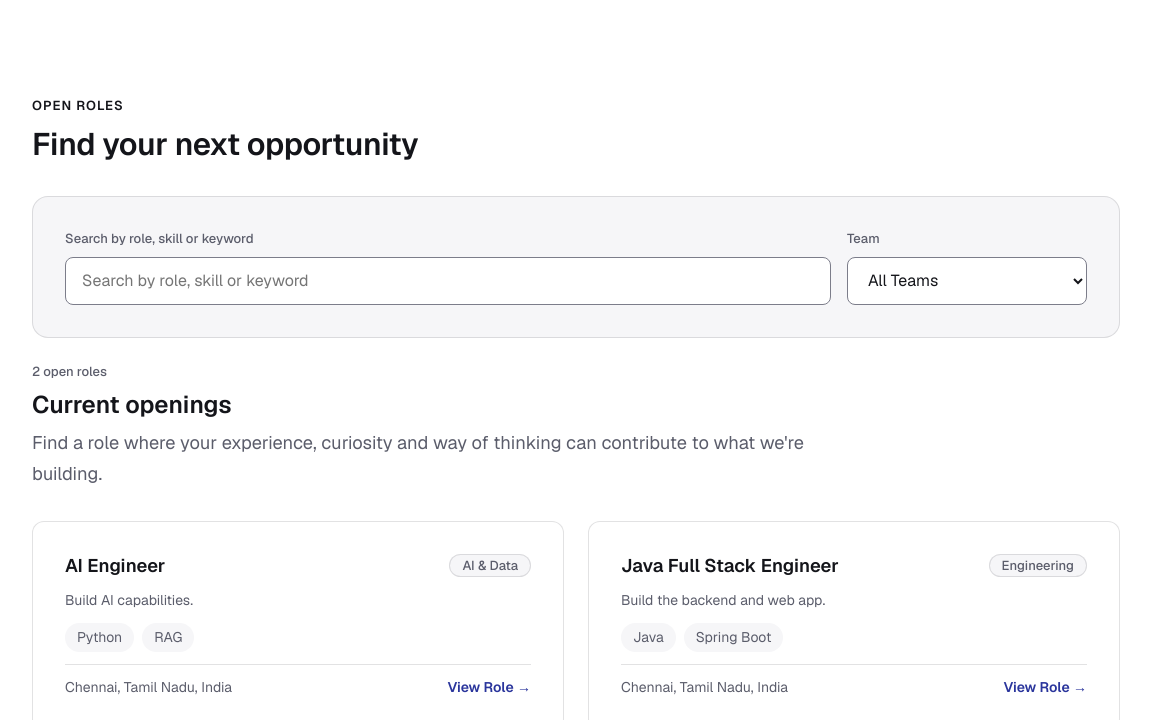
it: CurrentOpeningsSection › shows a filtered empty state with clear-filters and job-alerts pathways when a real result set exists but the filter excludes everything
Type "zzz-no-such-role" into the field labelled "Search by role, skill or keyword". click: (448, 280)
box: top-left (65, 256), bottom-right (831, 304)
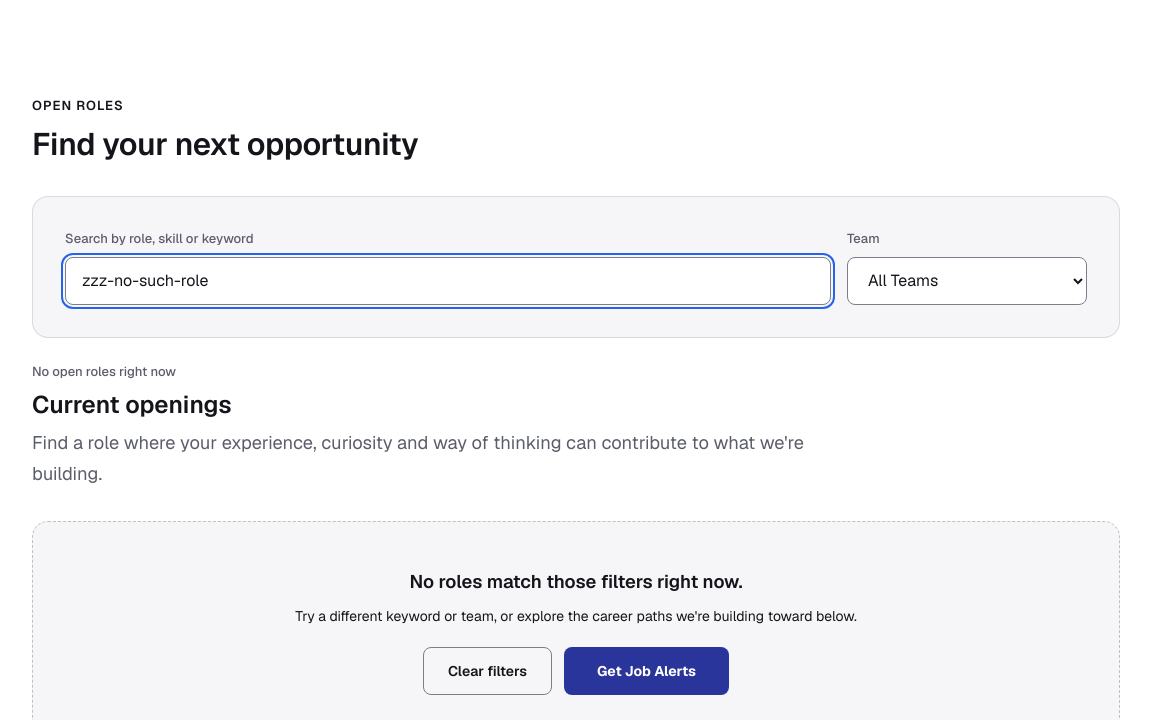
Expected: the text "No roles match those filters right now." is shown, top-left (409, 570), bottom-right (743, 594)
Expected: the link "Get Job Alerts" is shown, top-left (564, 647), bottom-right (729, 695)
Click the button "Clear filters". click: (487, 671)
box: top-left (423, 647), bottom-right (552, 695)
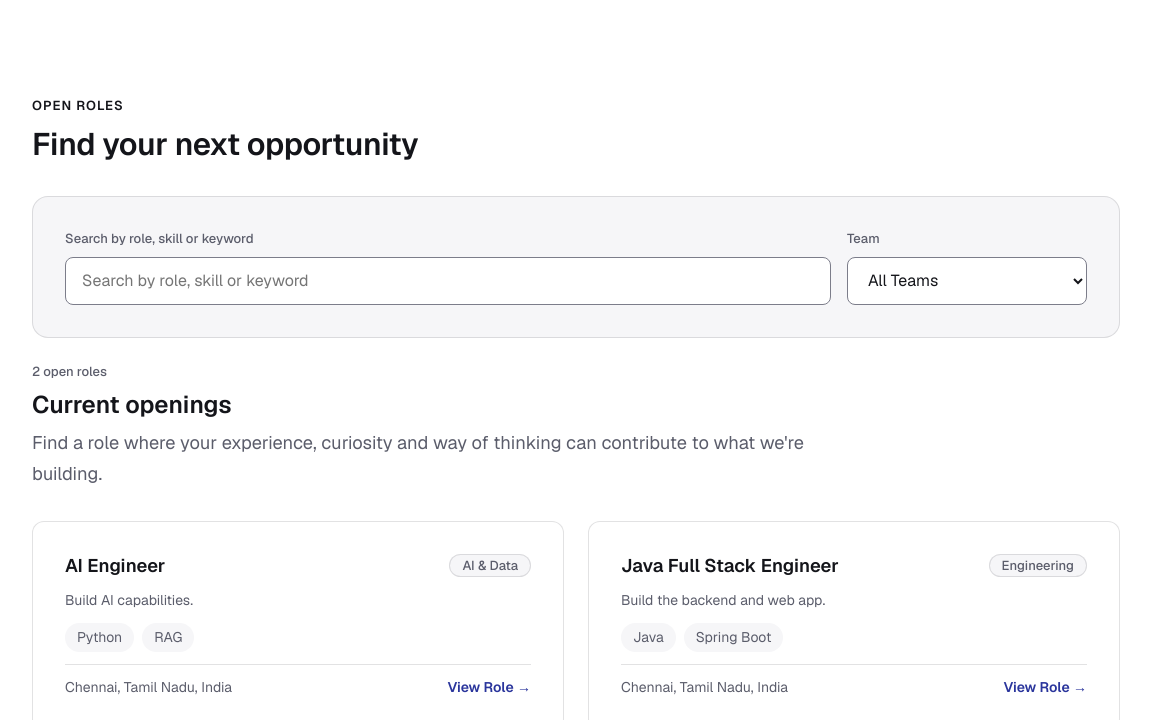
Expected: the text "2 open roles" is shown, top-left (32, 362), bottom-right (107, 380)
